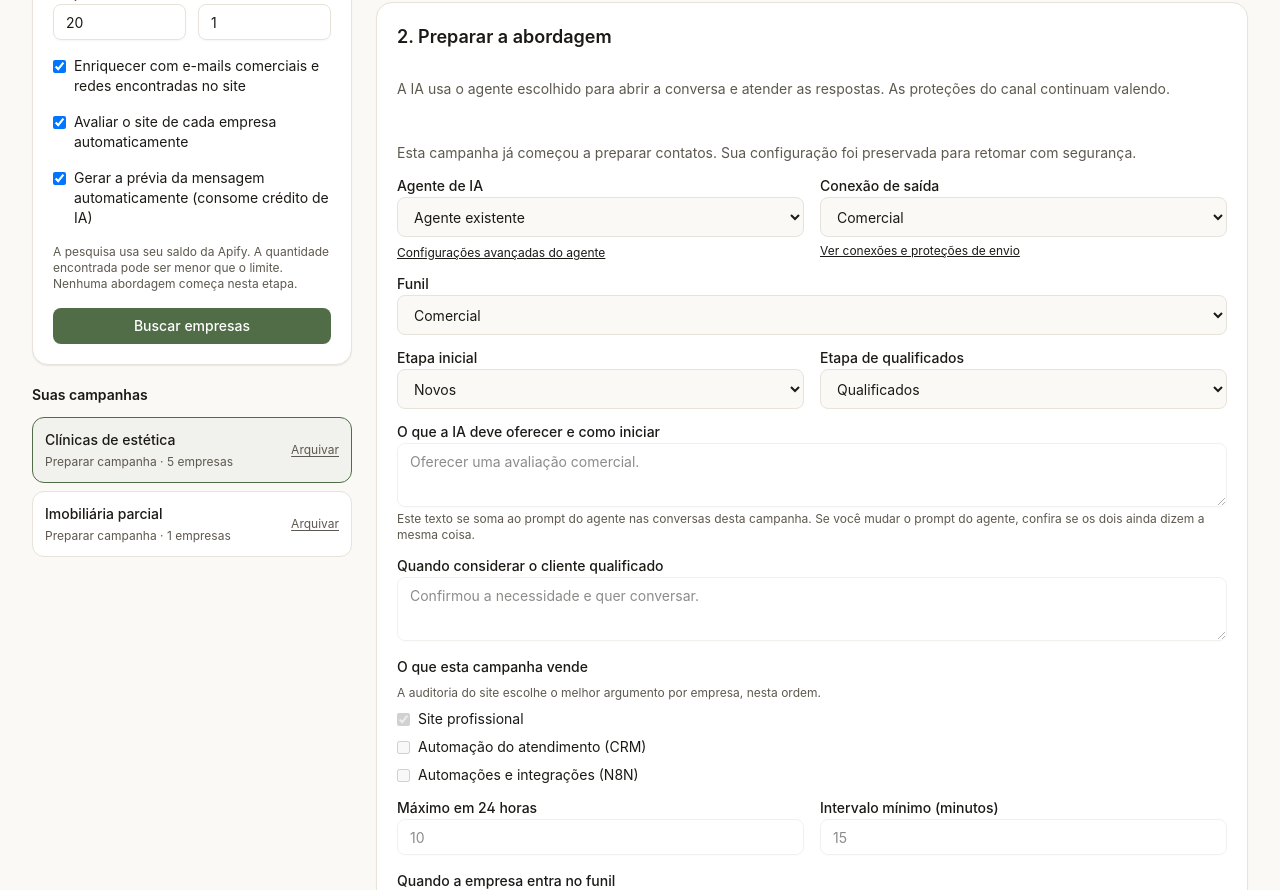
Test: baixar a lista da campanha (issue #4360) › sem conseguir contar, o menu avisa e nenhum dos dois vira link de arquivo
This screenshot has width=1280, height=890.
(page scrolled)
Click the button "Clínicas de estética Preparar campanha · 5 empresas". click: click(152, 450)
box: [33,418,271,482]
(page scrolled)
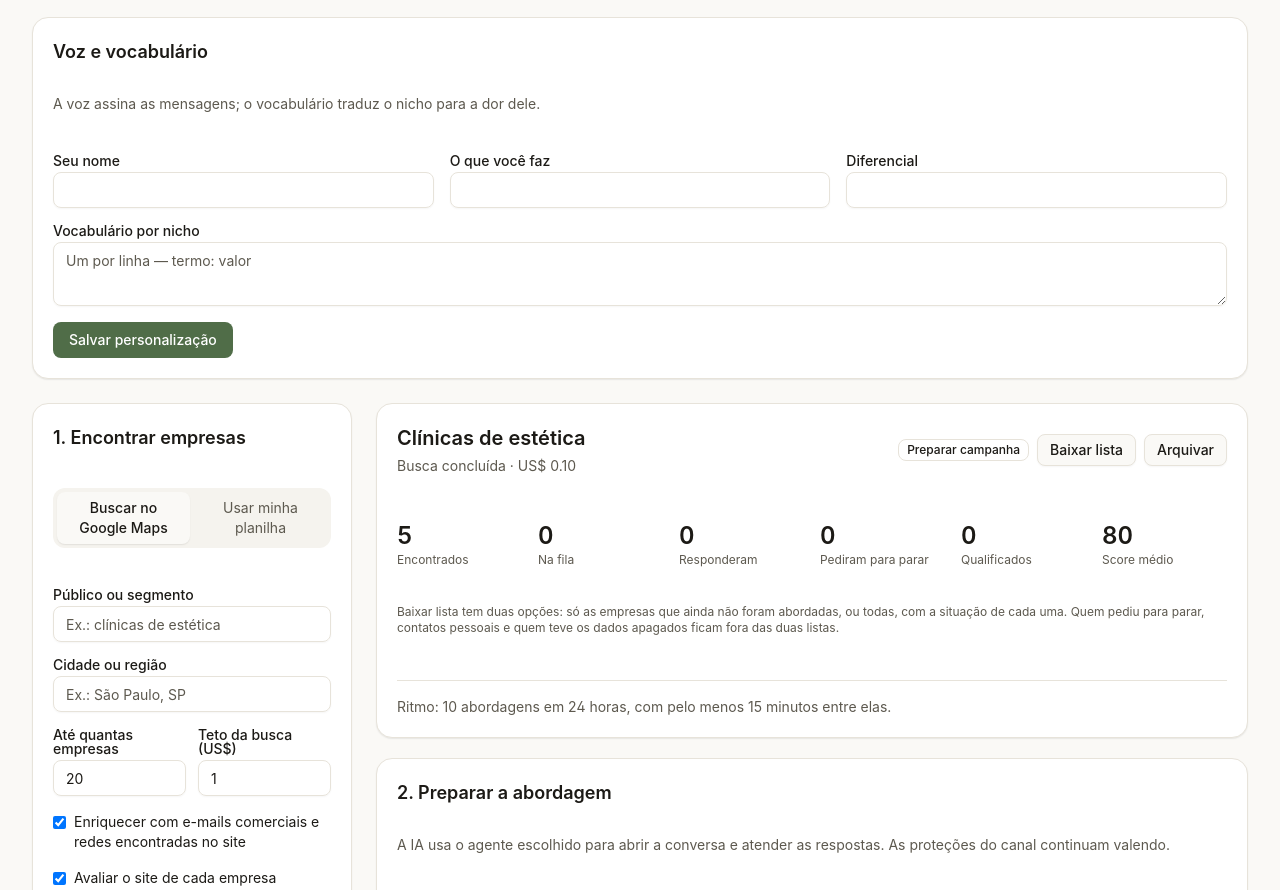
Click the button with test id "baixar-lista". click: click(1086, 450)
box: [1037,434,1136,466]
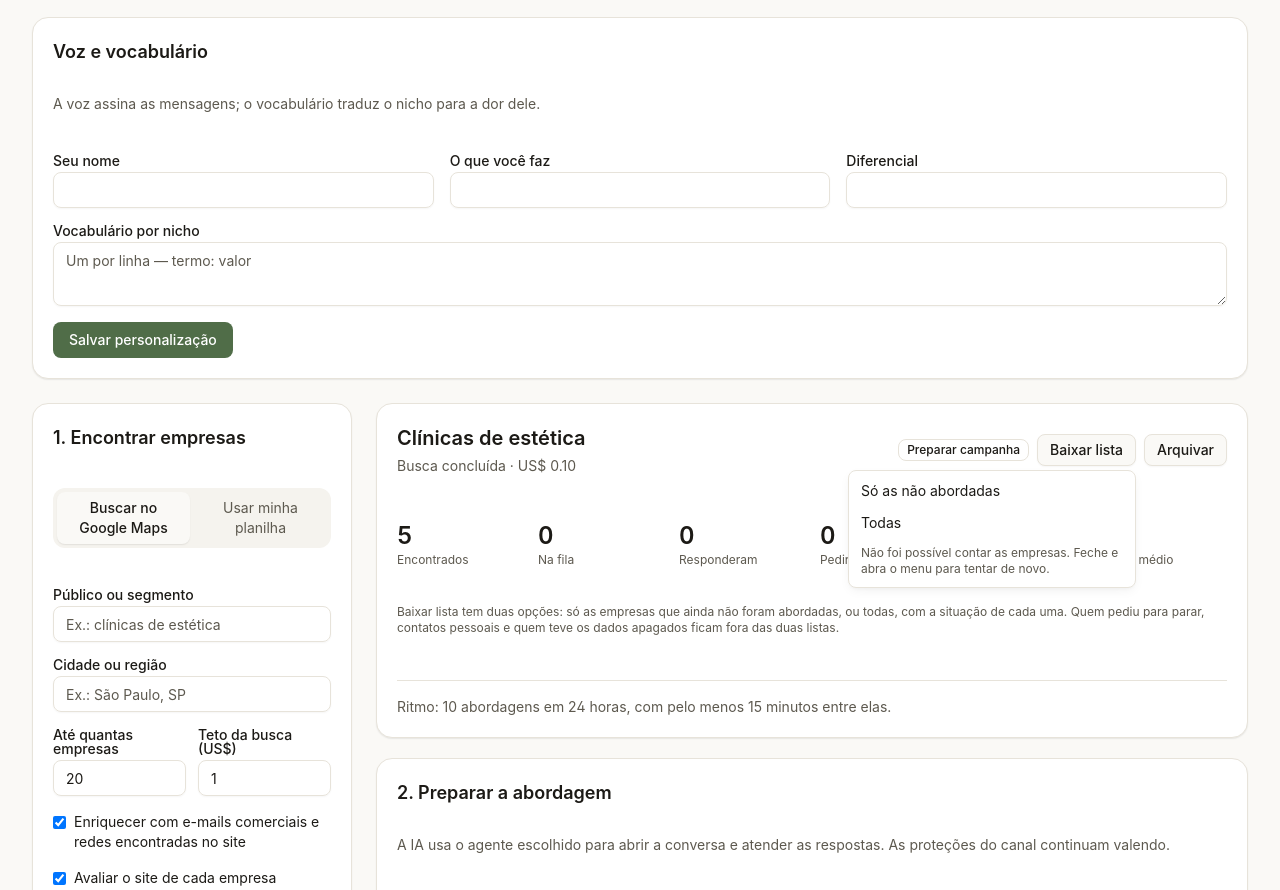
Now the message reads "Não foi possível contar as empresas. Feche e abra o menu para tentar de novo.", box [861,545,1118,576]
